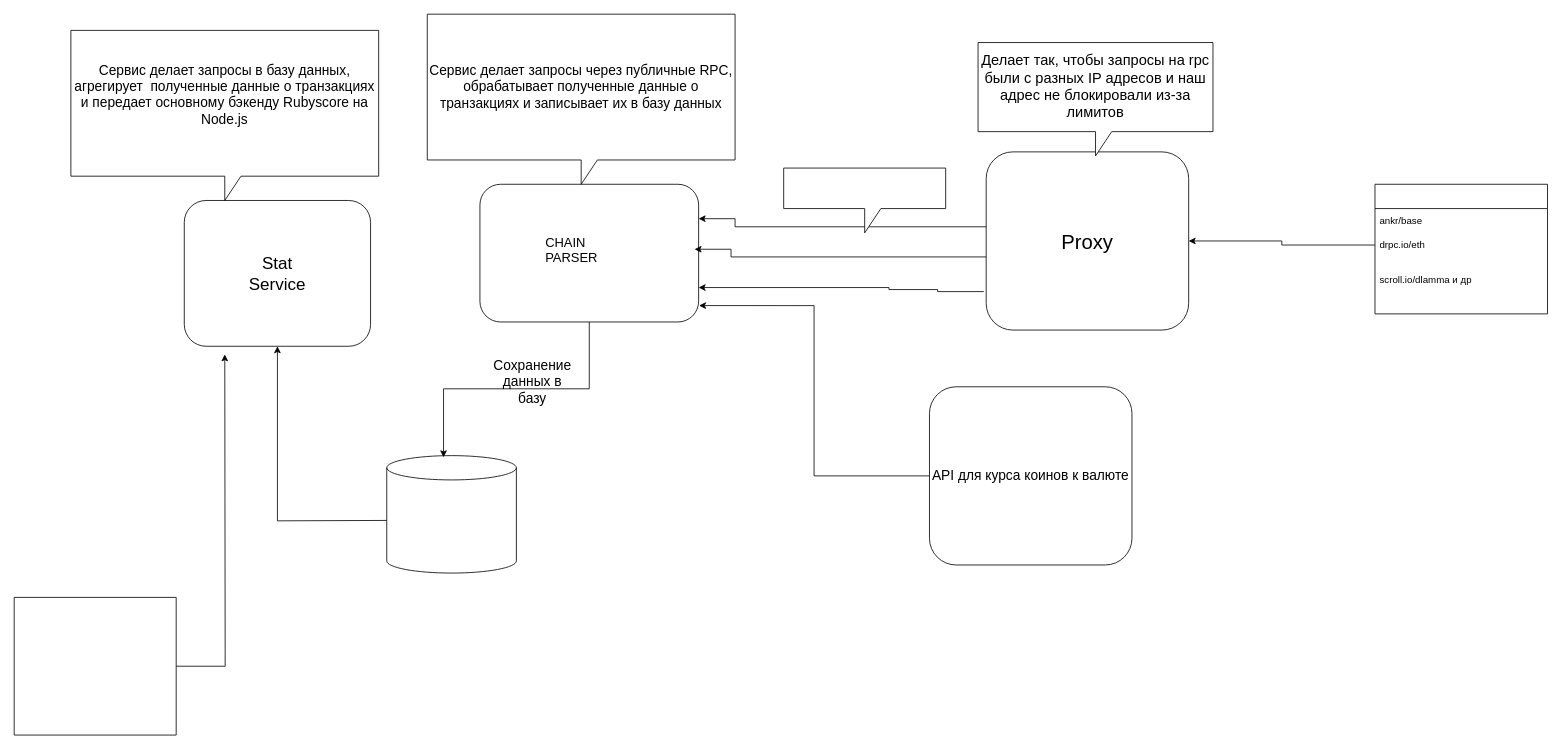
Image size: 1562x749. Some labels were removed from this diagram. The shapes that lost their labels are listed below. From the top down, each one's box as (x1, y1, x2, y2) in pixels, then its label:
(783, 167, 946, 233): Get запрос через RPC
(1374, 183, 1548, 314): Список RPC
(386, 455, 516, 573): Clickhouse
(13, 597, 176, 735): API для TVl
